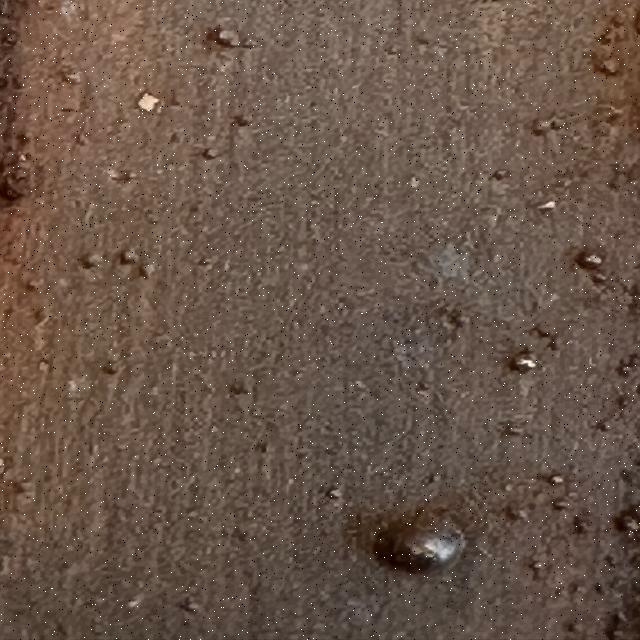Spatters: (373, 511, 467, 573), (207, 26, 258, 48), (613, 505, 640, 538), (605, 615, 638, 640), (607, 612, 637, 639), (508, 350, 538, 374), (532, 115, 565, 136), (615, 354, 640, 377), (505, 502, 530, 522), (575, 252, 603, 269), (78, 252, 103, 269), (60, 68, 82, 85), (502, 422, 527, 436), (572, 516, 588, 535), (120, 249, 138, 265), (102, 360, 120, 375), (528, 561, 543, 578), (25, 279, 44, 291), (490, 170, 510, 181), (325, 488, 343, 499), (603, 554, 617, 568), (553, 500, 570, 511), (233, 115, 250, 126), (595, 420, 610, 432), (202, 149, 218, 160), (0, 75, 10, 91), (593, 584, 605, 595), (550, 475, 563, 484), (410, 176, 420, 187), (565, 624, 577, 632)
